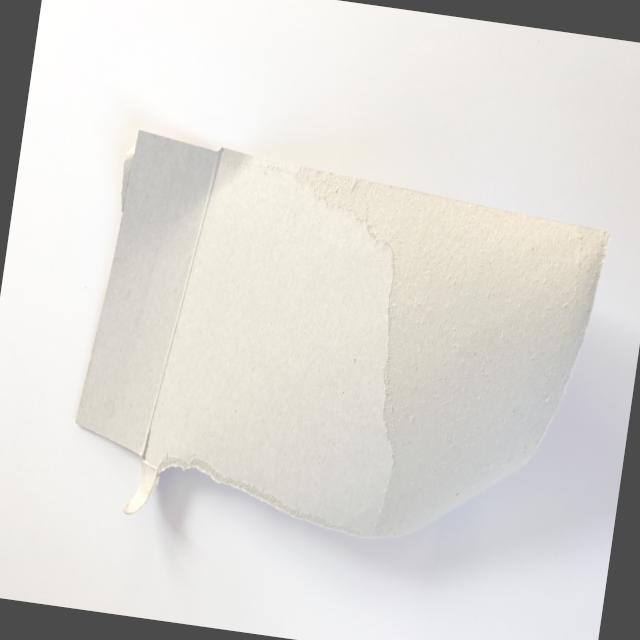Paper: (55, 70, 640, 576)
